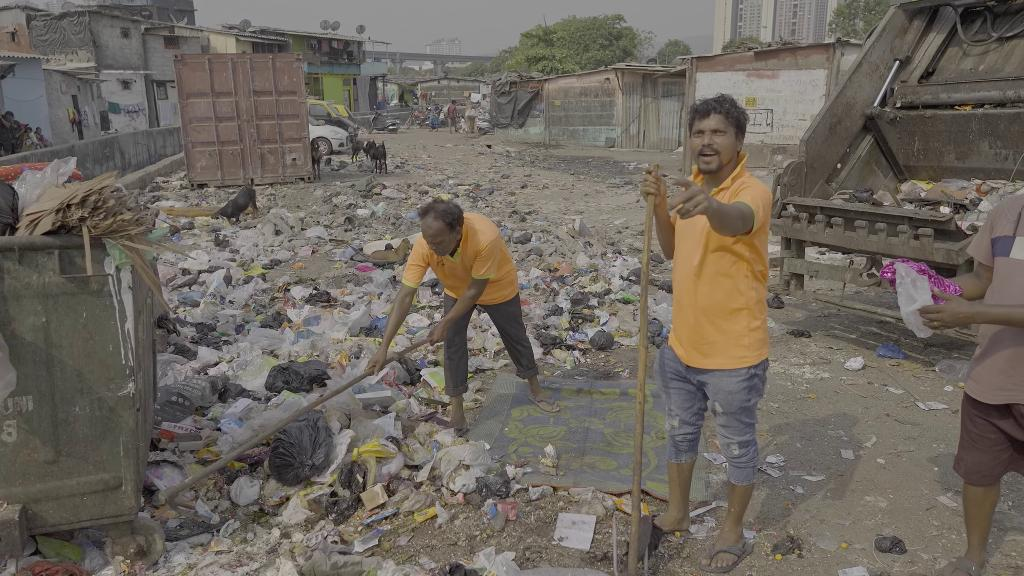garbage: (262, 406, 347, 482), (874, 261, 949, 341), (263, 350, 338, 399), (440, 437, 494, 495), (225, 470, 268, 512), (245, 326, 300, 351), (868, 528, 910, 560), (333, 300, 372, 334), (196, 279, 228, 320), (581, 324, 619, 358), (532, 329, 575, 356), (259, 308, 293, 333), (873, 340, 908, 363), (486, 496, 516, 522), (167, 220, 197, 244), (294, 244, 315, 262), (259, 256, 282, 271)
